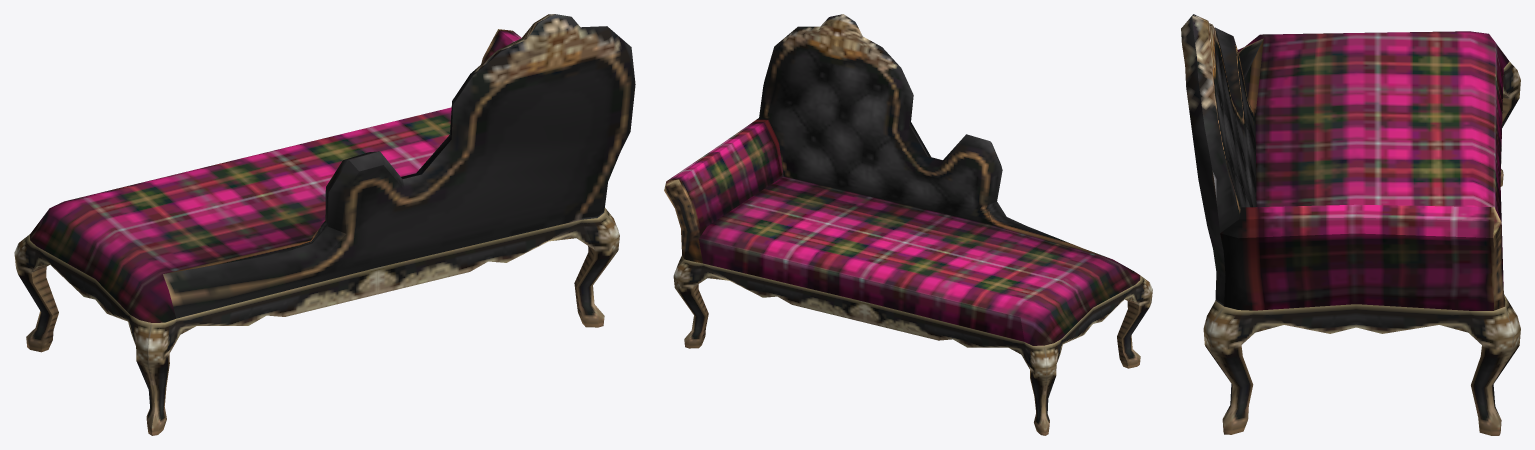
File: furni_0200309_01.FBX
3 views of the same model, side by side, from view 1: azimuth 30°, elevation 25°; view 2: azimuth 150°, elevation 25°; view 3: azimuth 270°, elevation 25° (orthographic). The views are drawn at different scales.
Parts seen in each view (by area): view 1: furni_0200309_01; view 2: furni_0200309_01; view 3: furni_0200309_01.
Part boxes in pixels (box(x1,y1,x2,y2)): furni_0200309_01: box(14, 14, 635, 435); furni_0200309_01: box(664, 14, 1152, 435); furni_0200309_01: box(1181, 14, 1520, 435).
Size of the model in its own units: 159 by 103 by 82.54.
